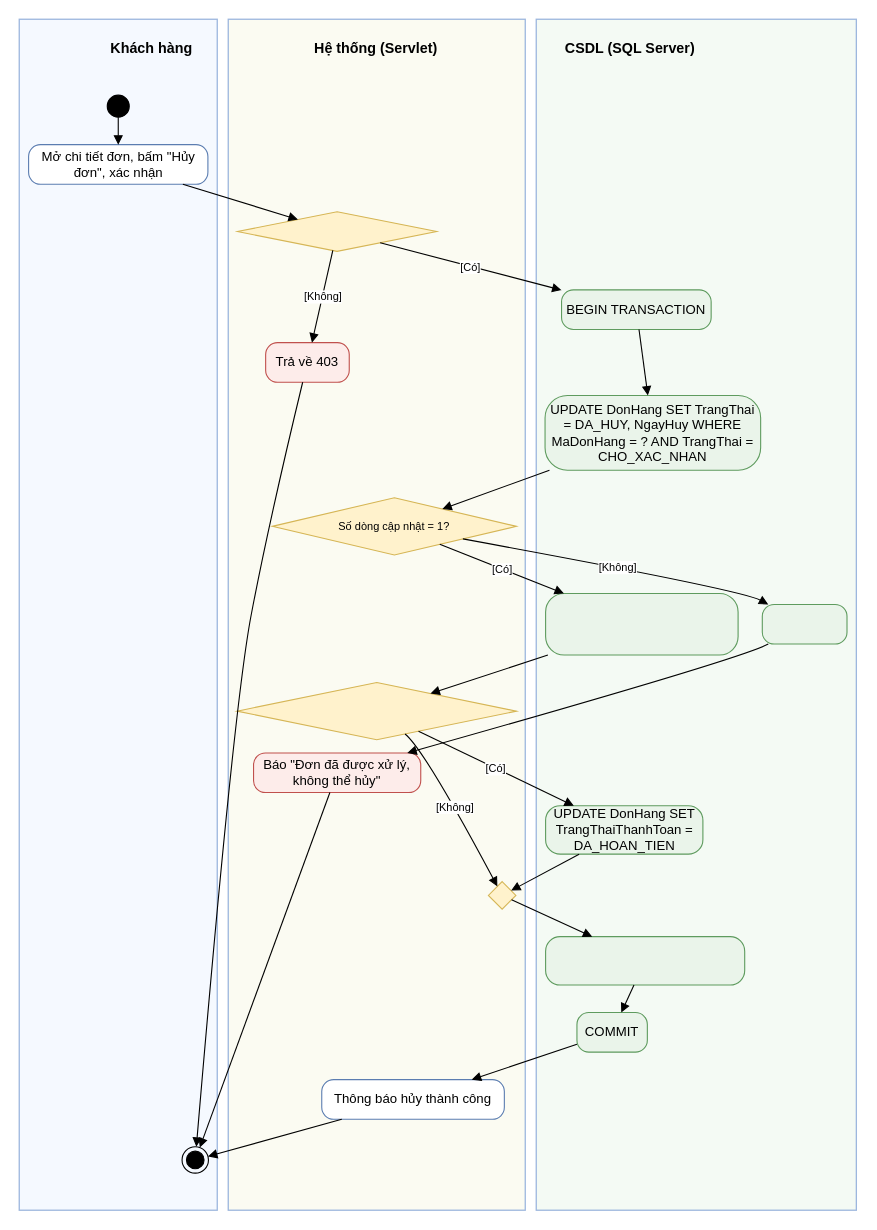
Image size: 877x1230. Some labels were removed from this diagram. Here are the shapes that lost their labels. From the top down, the box of each, then its label:
(236, 211, 437, 251): Đơn thuộc về khách?
(544, 592, 738, 655): Hoàn tồn kho: UPDATE SanPham SET SoLuongTon = SoLuongTon + SoLuong của từng dòng
(761, 603, 847, 644): ROLLBACK
(236, 681, 516, 740): TrangThaiThanhToan = DA_THANH_TOAN?
(544, 936, 745, 985): INSERT LichSuTrangThaiDon (CHO_XAC_NHAN -> DA_HUY, NguoiThucHien = khách)
